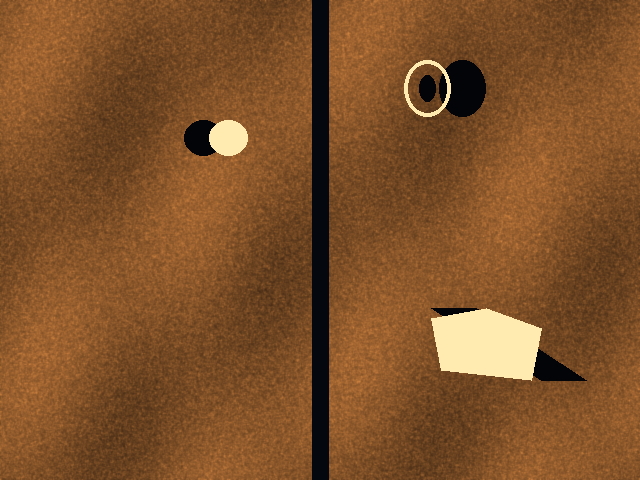Bottle: (209, 120, 247, 155)
Tire: (404, 60, 450, 116)
Unknown Debris: (431, 308, 541, 380)
